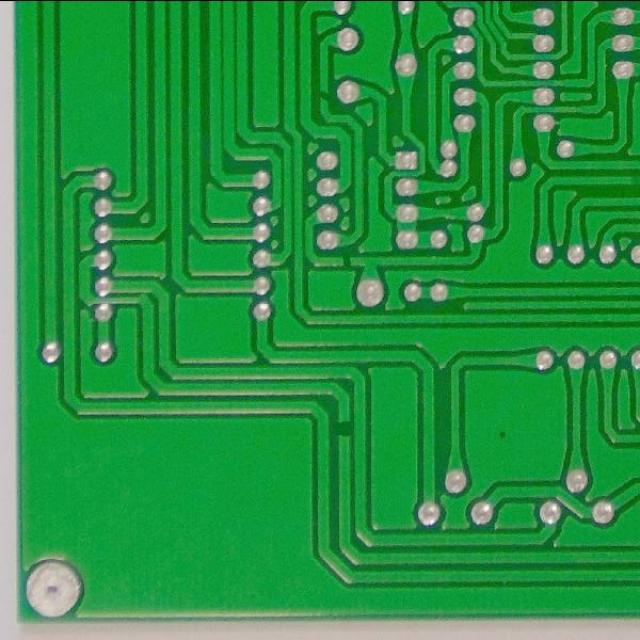Open_Circuit: (331, 412, 356, 447), (335, 248, 359, 273), (315, 83, 335, 109)
